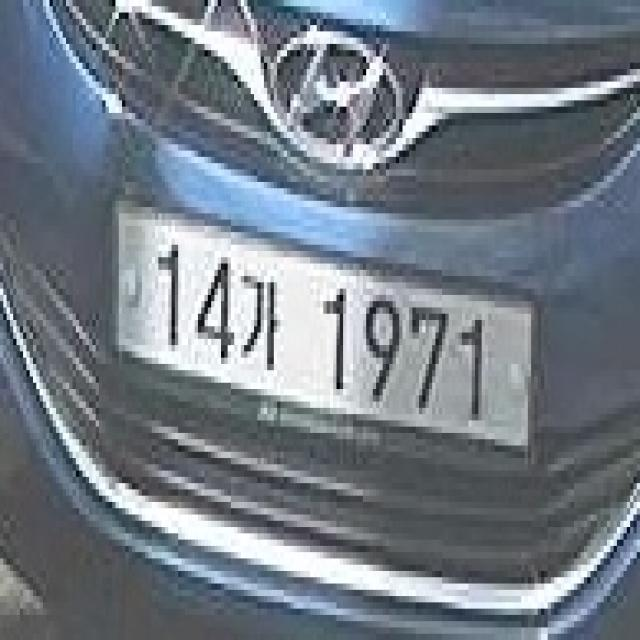1: (310, 270, 356, 414), (142, 232, 191, 364), (452, 301, 498, 439)
4: (194, 245, 240, 382)
7: (402, 295, 452, 433)
9: (356, 276, 409, 420)
ga: (238, 264, 290, 389)
license_plate: (109, 182, 541, 489)
